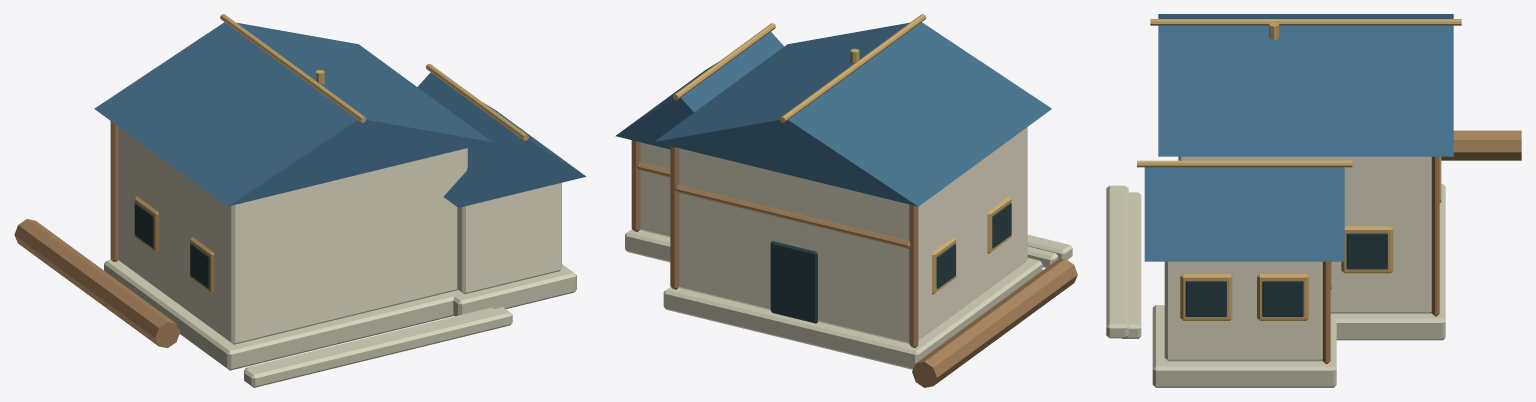
Rendered from level_15.glb.
The picture shows the model from 3 angles, left to right: view 1: azimuth 30°, elevation 25°; view 2: azimuth 150°, elevation 25°; view 3: azimuth 270°, elevation 25°; orthographic projection. The views are drawn at different scales.
Parts seen in each view (by area): view 1: timber_yard — level 15; view 2: timber_yard — level 15; view 3: timber_yard — level 15.
Part boxes in pixels (left/top/right/bottom): timber_yard — level 15: left=14, top=14, right=585, bottom=387; timber_yard — level 15: left=615, top=14, right=1077, bottom=387; timber_yard — level 15: left=1106, top=14, right=1521, bottom=387.
Bounding box in the file's own units: 6.43 × 3.52 × 5.2.
